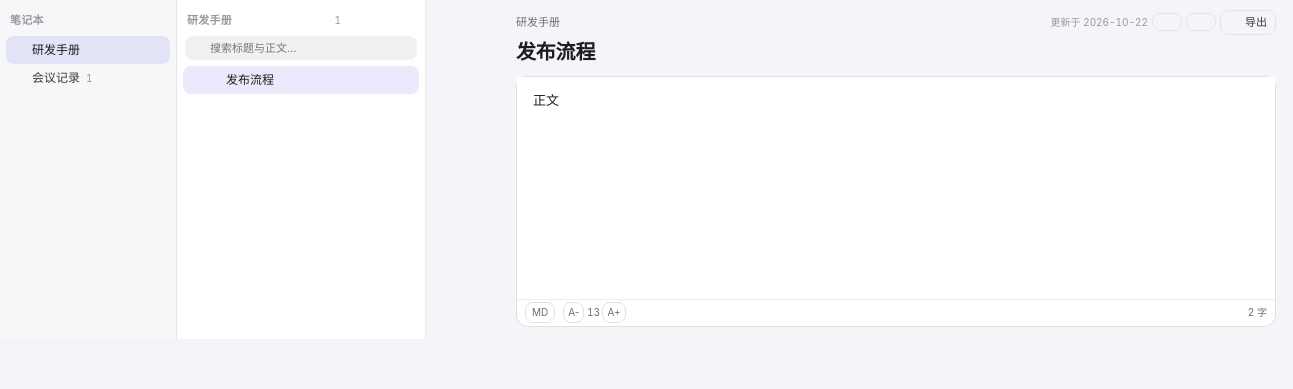
it: T49-8 · 全文搜索 › 命中正文的文档出现在结果里，点击后切换到它所在的笔记本
Type "发布窗口" into the search field with test id "notebook-search".
click(310, 48); type("发布窗口")  # box [210,41,409,55]
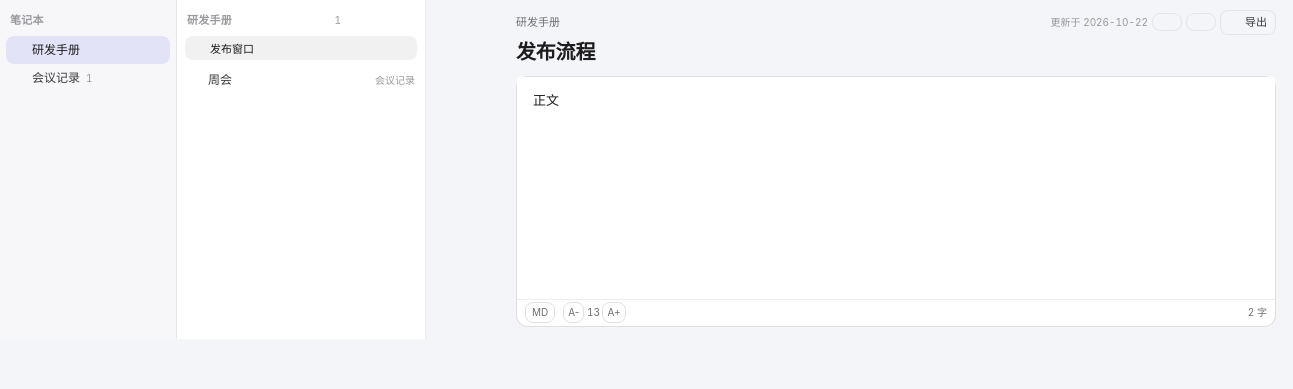
Click the list item with test id "notebook-search-result-d4".
click(395, 80)  # box [191,72,415,87]
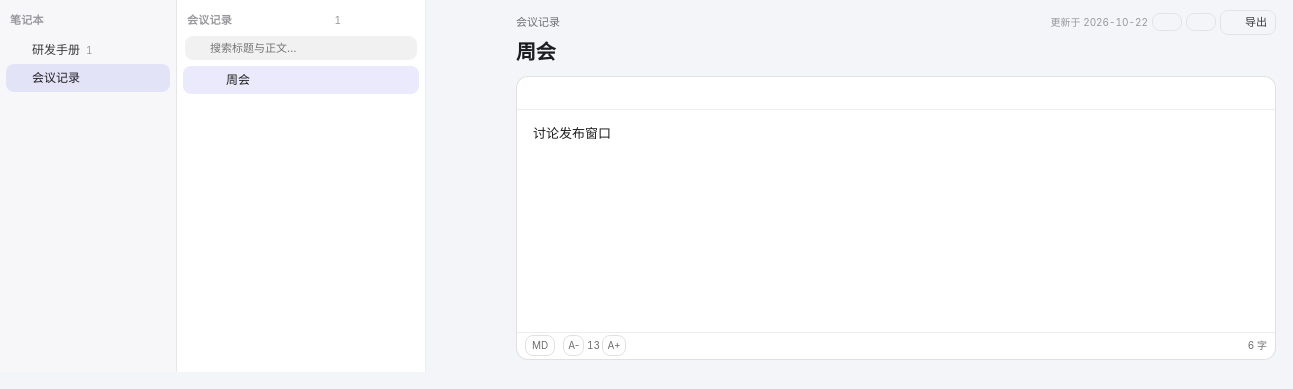
Check: the field with test id "notebook-title-input" holds "周会", box [516,37,1276,68]
Check: the search field with test id "notebook-search" is empty, box [210,41,409,55]
